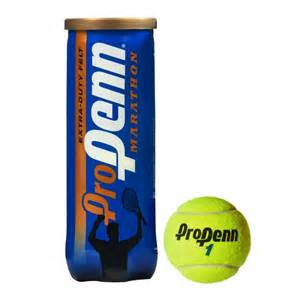tennis_ball: (162, 196, 251, 284)
